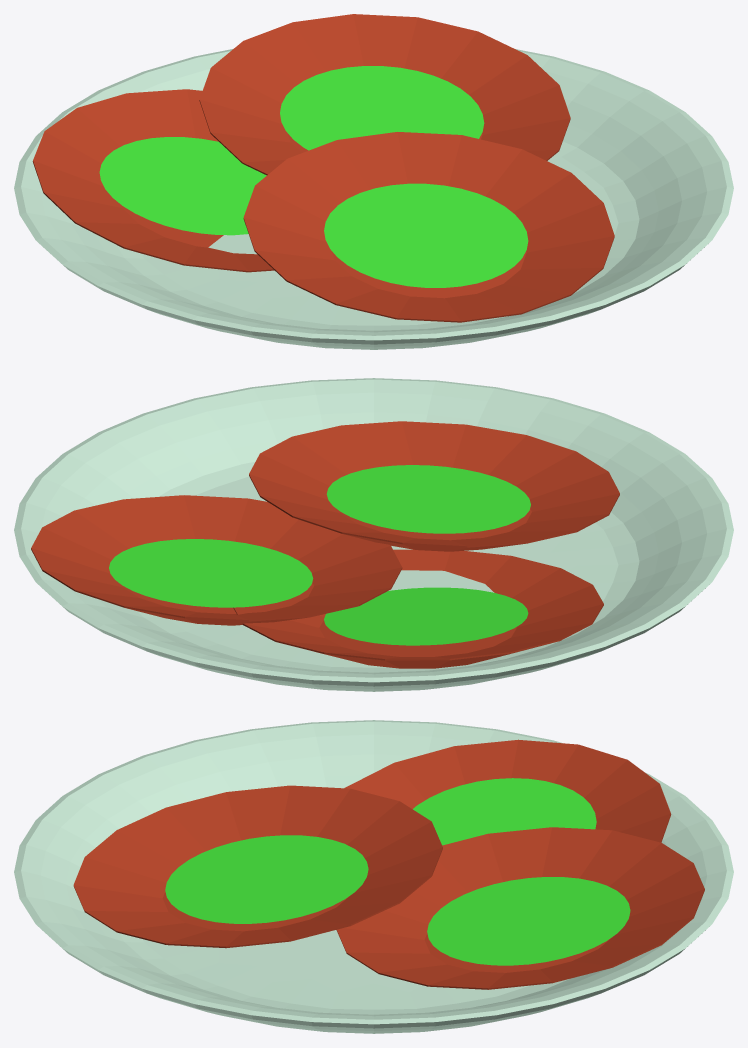
Rendered from KUE APE.fbx.
3 renders of one model, top to bottom at view 1: azimuth 30°, elevation 25°; view 2: azimuth 150°, elevation 25°; view 3: azimuth 270°, elevation 25°, orthographic.
Visible parts, largest first — view 1: Cylinder, Cylinder.003, Cylinder.001, Cylinder.005, Cylinder.004, Cylinder.002, Cylinder.006; view 2: Cylinder, Cylinder.003, Cylinder.001, Cylinder.005, Cylinder.002, Cylinder.004, Cylinder.006; view 3: Cylinder, Cylinder.003, Cylinder.001, Cylinder.005, Cylinder.002, Cylinder.004, Cylinder.006.
Part boxes in pixels (x1,y1,x2,y2): Cylinder: (14,49,733,349); Cylinder.003: (243,132,614,322); Cylinder.001: (199,14,570,175); Cylinder.005: (32,89,281,272); Cylinder.004: (324,183,528,287); Cylinder.002: (280,66,484,150); Cylinder.006: (99,137,266,235); Cylinder: (14,378,733,691); Cylinder.003: (249,421,619,551); Cylinder.001: (31,495,402,625); Cylinder.005: (233,549,603,668); Cylinder.002: (109,539,313,607); Cylinder.004: (326,465,530,533); Cylinder.006: (324,587,528,645); Cylinder: (14,720,733,1033); Cylinder.003: (73,785,442,948); Cylinder.001: (336,827,704,989); Cylinder.005: (344,739,671,842); Cylinder.002: (427,877,630,965); Cylinder.004: (165,835,368,923); Cylinder.006: (413,778,596,845).
Bounding box in the file's own units: 231 × 27.8 × 231.
